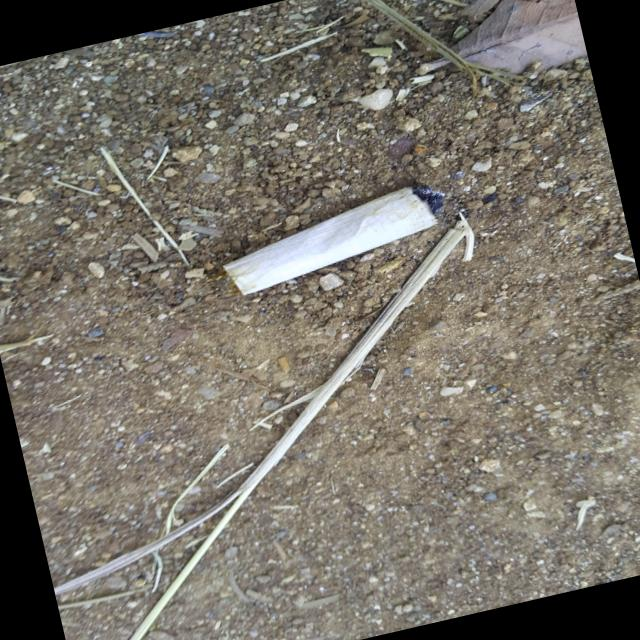less trash: (223, 184, 444, 294)
